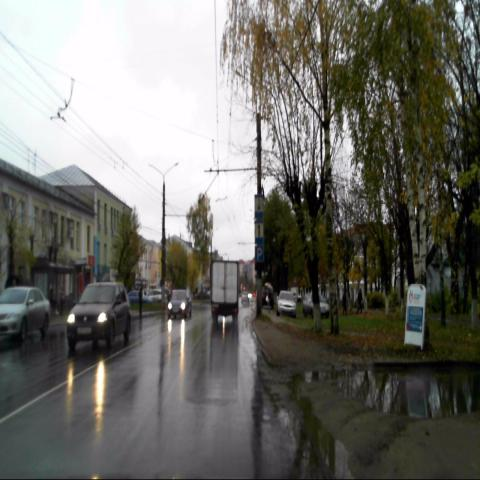7_4: (255, 220, 264, 245)
7_5: (254, 193, 264, 219)
